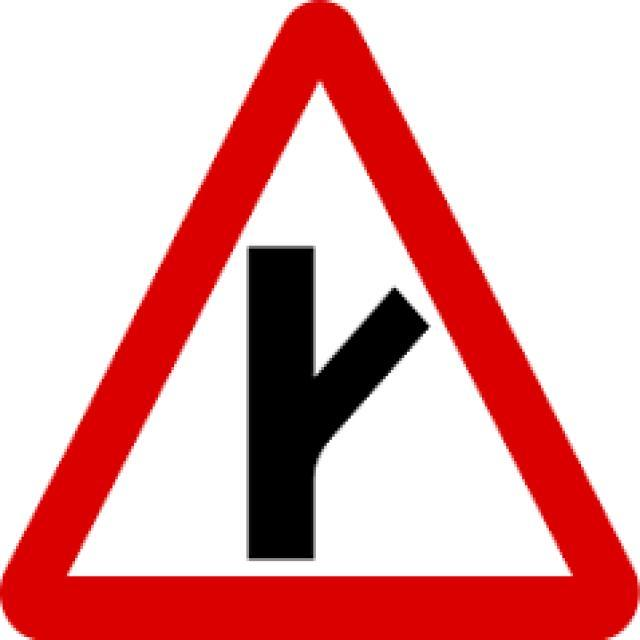y intersection: (21, 20, 621, 623)
